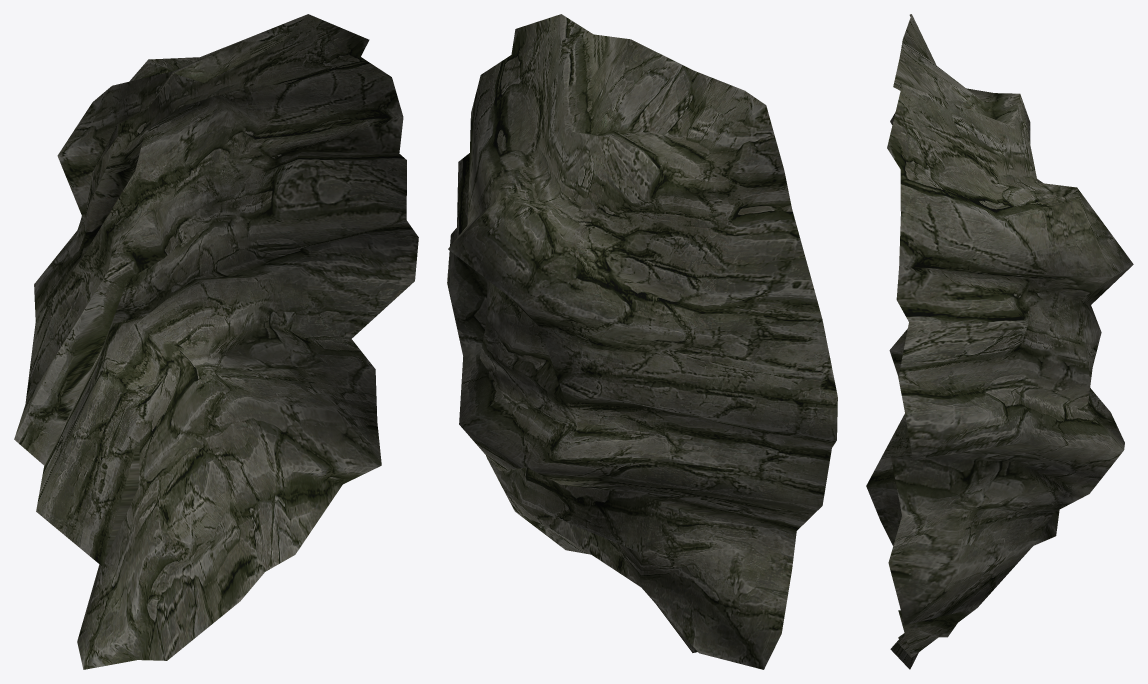
The model's file is TI_Cliff_02_n_LOD_02.fbx.
3 views of the same model, side by side, from view 1: azimuth 30°, elevation 25°; view 2: azimuth 150°, elevation 25°; view 3: azimuth 270°, elevation 25° (orthographic). The views are drawn at different scales.
Parts seen in each view (by area): view 1: TI_Cliff_02_n_LOD_02; view 2: TI_Cliff_02_n_LOD_02; view 3: TI_Cliff_02_n_LOD_02.
Boxes of the visible parts, x1=… form: TI_Cliff_02_n_LOD_02: x1=14, y1=14, x2=418, y2=669; TI_Cliff_02_n_LOD_02: x1=447, y1=14, x2=837, y2=669; TI_Cliff_02_n_LOD_02: x1=866, y1=14, x2=1133, y2=669.
Bounding box in the file's own units: 5.96 × 8.78 × 3.24.
